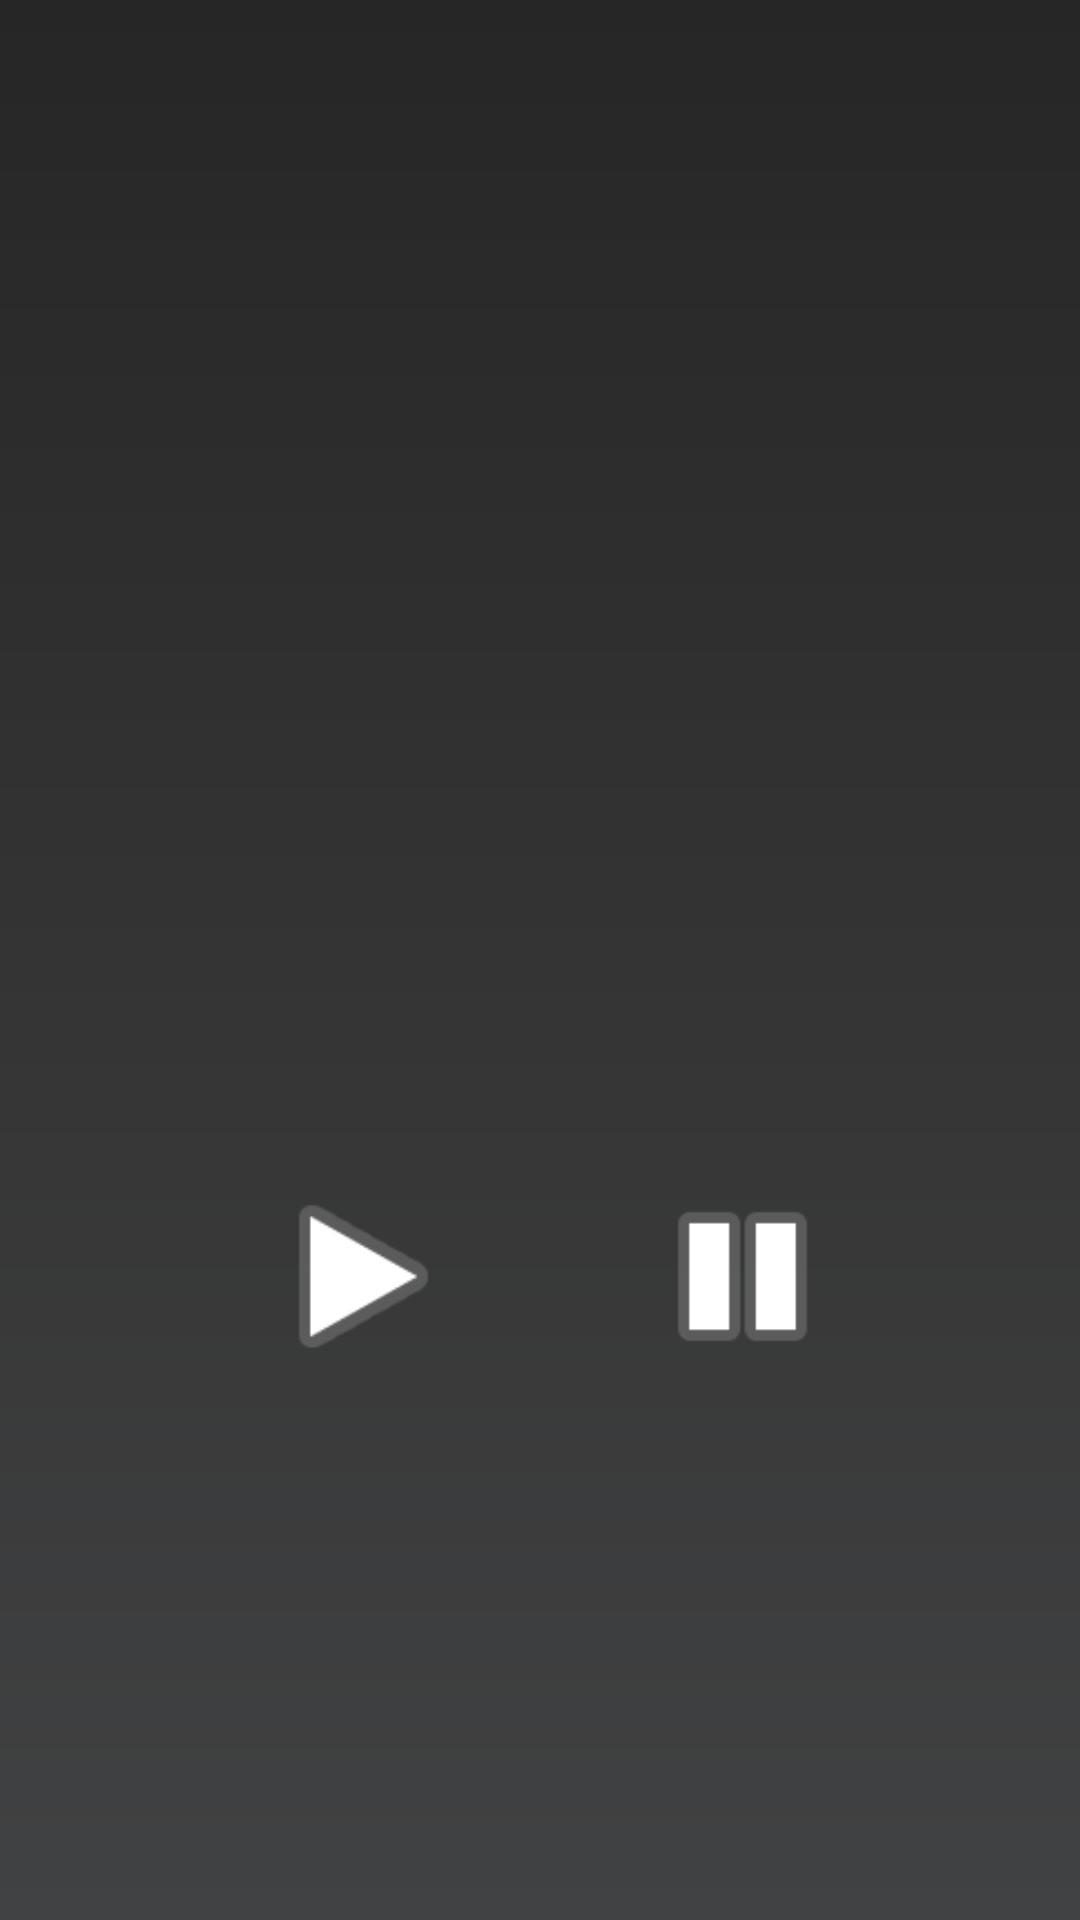

Where to tap for icons on this 1080*1920 app screen, as (x,y):
pause: (742,1276)
play: (363,1276)
